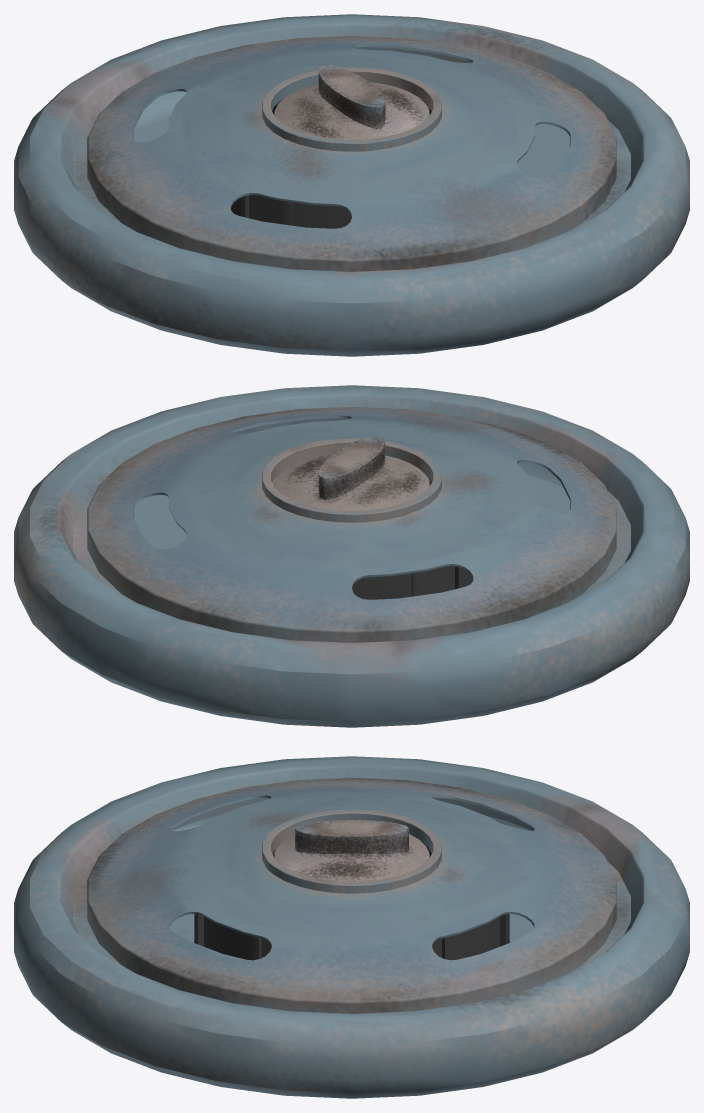
Rendered from mine.glb.
The picture shows the model from 3 angles, top to bottom: view 1: azimuth 30°, elevation 25°; view 2: azimuth 150°, elevation 25°; view 3: azimuth 270°, elevation 25°; orthographic projection.
Visible parts, largest first — view 1: pCylinder4; view 2: pCylinder4; view 3: pCylinder4.
Boxes of the visible parts, box(x1,y1,x2,y2) form: pCylinder4: box(14, 14, 689, 356); pCylinder4: box(14, 385, 689, 727); pCylinder4: box(14, 756, 689, 1098).
Bounding box in the file's own units: 0.5142 × 0.1146 × 0.5114.
1 material, 1 textured.
